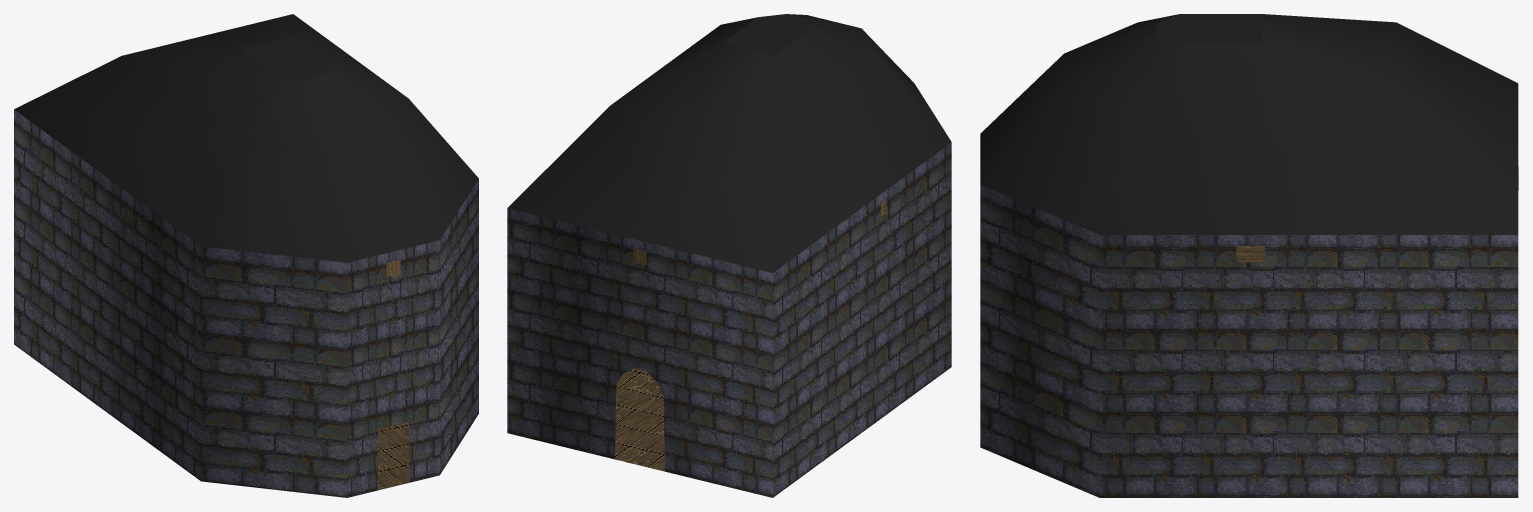
Rendered from Capilla.fbx.
The picture shows the model from 3 angles, left to right: view 1: azimuth 30°, elevation 25°; view 2: azimuth 150°, elevation 25°; view 3: azimuth 270°, elevation 25°; orthographic projection. The views are drawn at different scales.
Visible parts, largest first — view 1: Plano.005; view 2: Plano.005; view 3: Plano.005.
Part boxes in pixels (x1,y1,x2,y2): Plano.005: (14, 14, 478, 497); Plano.005: (507, 14, 951, 497); Plano.005: (980, 14, 1518, 497).
Size of the model in its own units: 1200 by 1451 by 1801.
